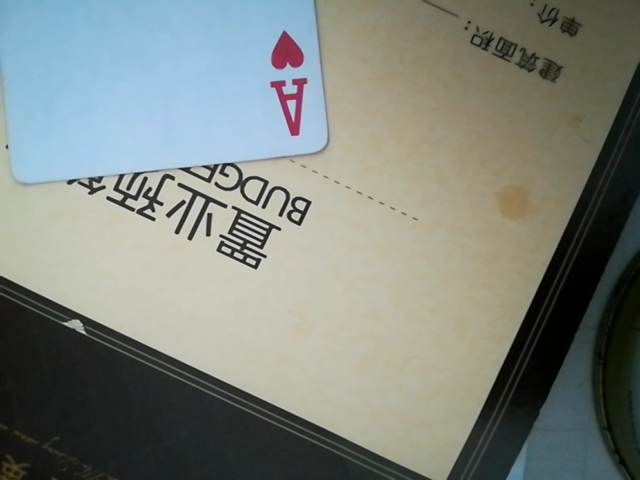hx a: (0, 0, 332, 182)
